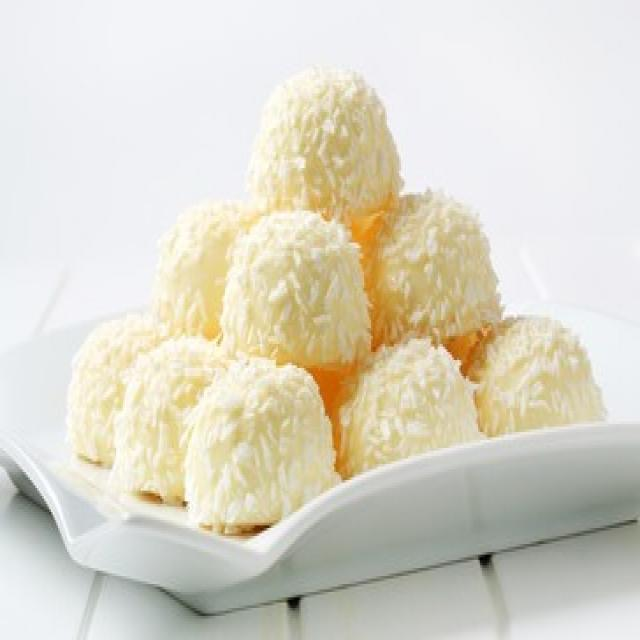chocolate: (65, 72, 602, 540)
